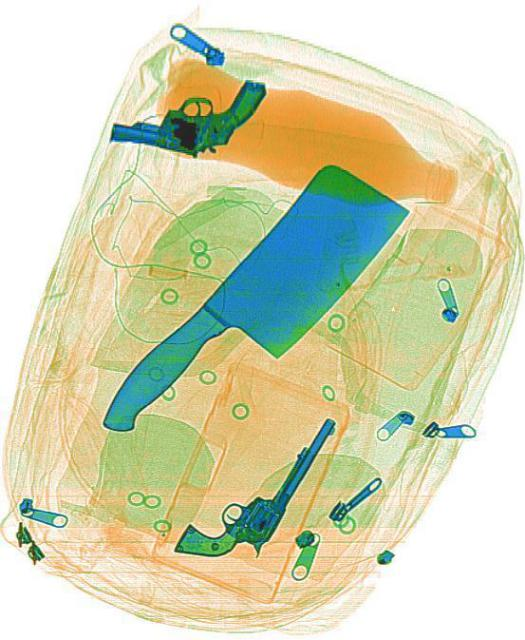Gun: (160, 410, 367, 592), (103, 75, 282, 169)
Knife: (87, 128, 414, 496)
